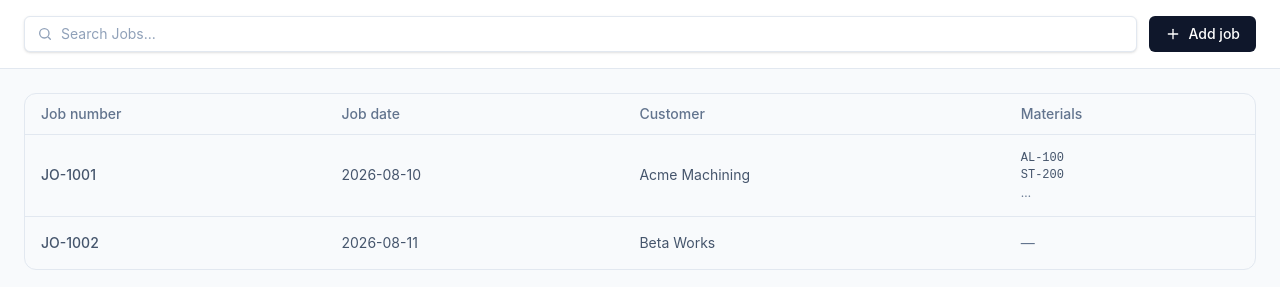
Scenario: JobsWorkspace › lists jobs for the open library and searches across job fields
Check: the button "JO-1001" is shown, box x1=41 y1=165 x2=96 y2=185
Check: the button "JO-1002" is shown, box x1=41 y1=232 x2=99 y2=252
Type "acme" into the field with placeholder "Search Jobs..." at (592, 34), box x1=61 y1=24 x2=1124 y2=44
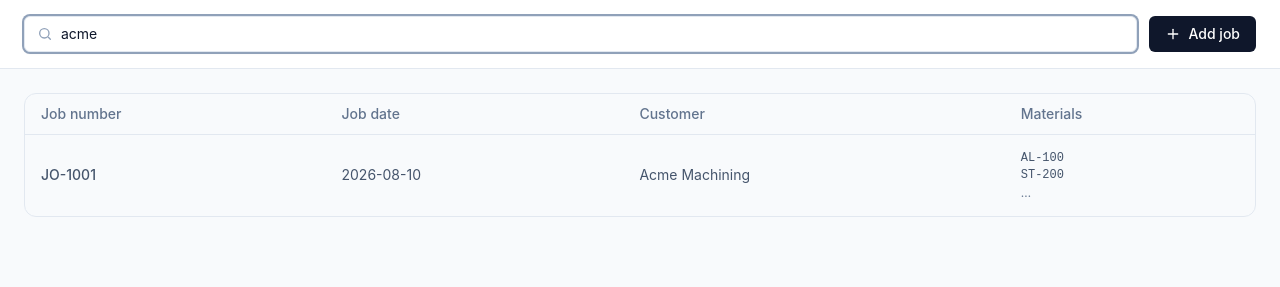
Check: the button "JO-1001" is shown, box x1=41 y1=165 x2=96 y2=185
Check: the button "JO-1002" is gone
